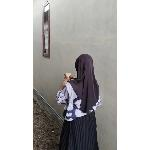Celurit: (63, 64, 89, 84)
